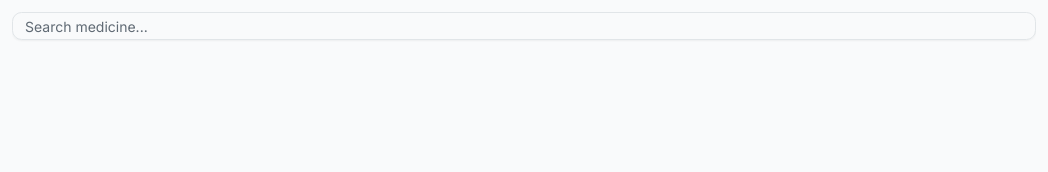
it: MedicineSelect › opens dropdown on focus and loads products
Focus the dropdown at (524, 26), box [12,12,1036,40]
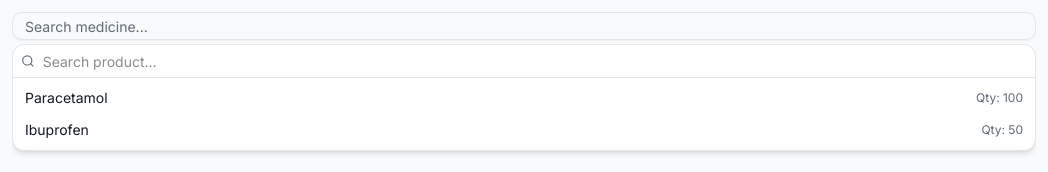
Result: the text "Paracetamol" is shown at [25,88,108,108]
Result: the text "Ibuprofen" is shown at [25,120,89,140]
